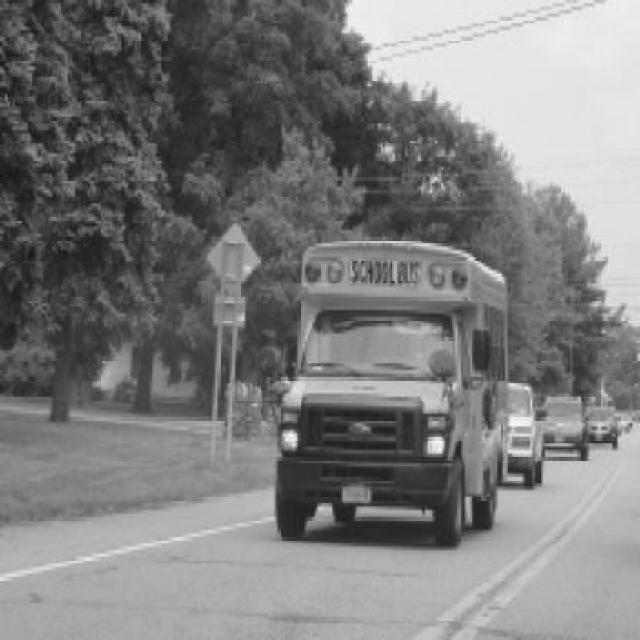Bus- Small: (275, 241, 509, 548)
